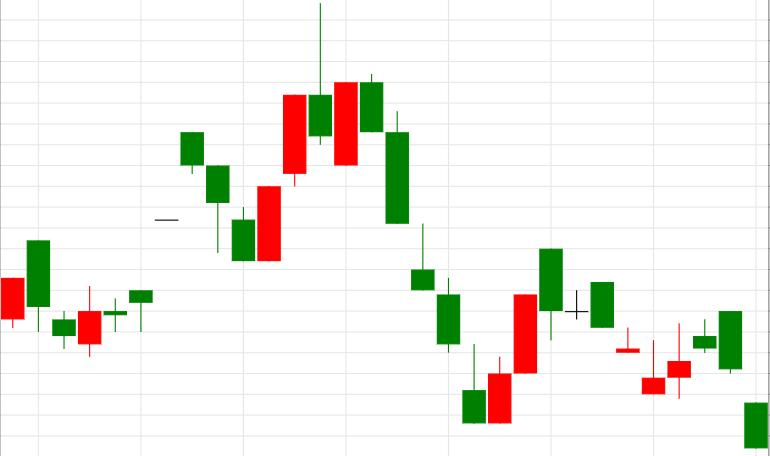inverse_hammer_rise: (361, 73, 486, 422)
three_black_crows_fall: (52, 133, 255, 357)
